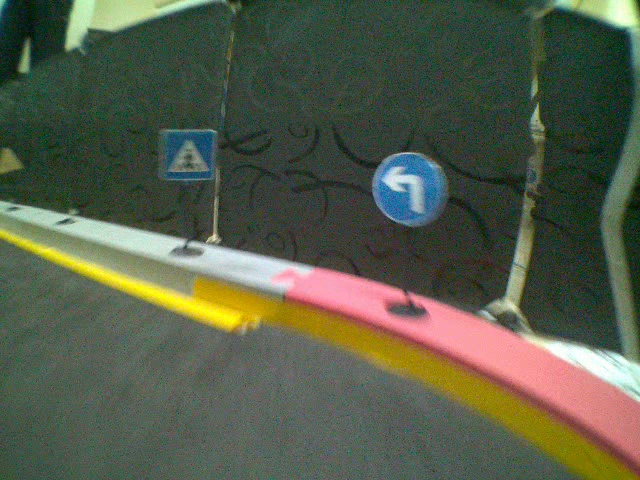crossing: (158, 128, 216, 181)
turn: (372, 150, 446, 225)
